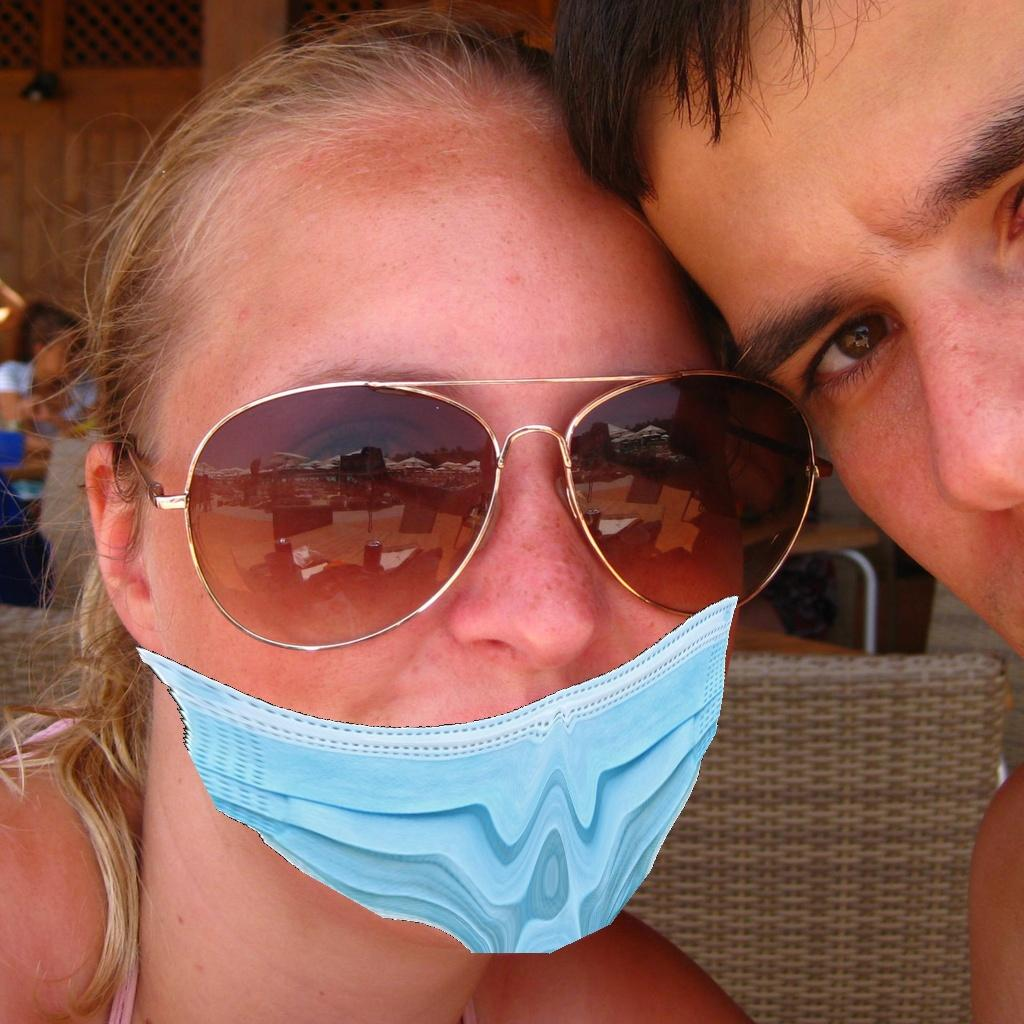Máscara Incorreta: (155, 263, 818, 951)
